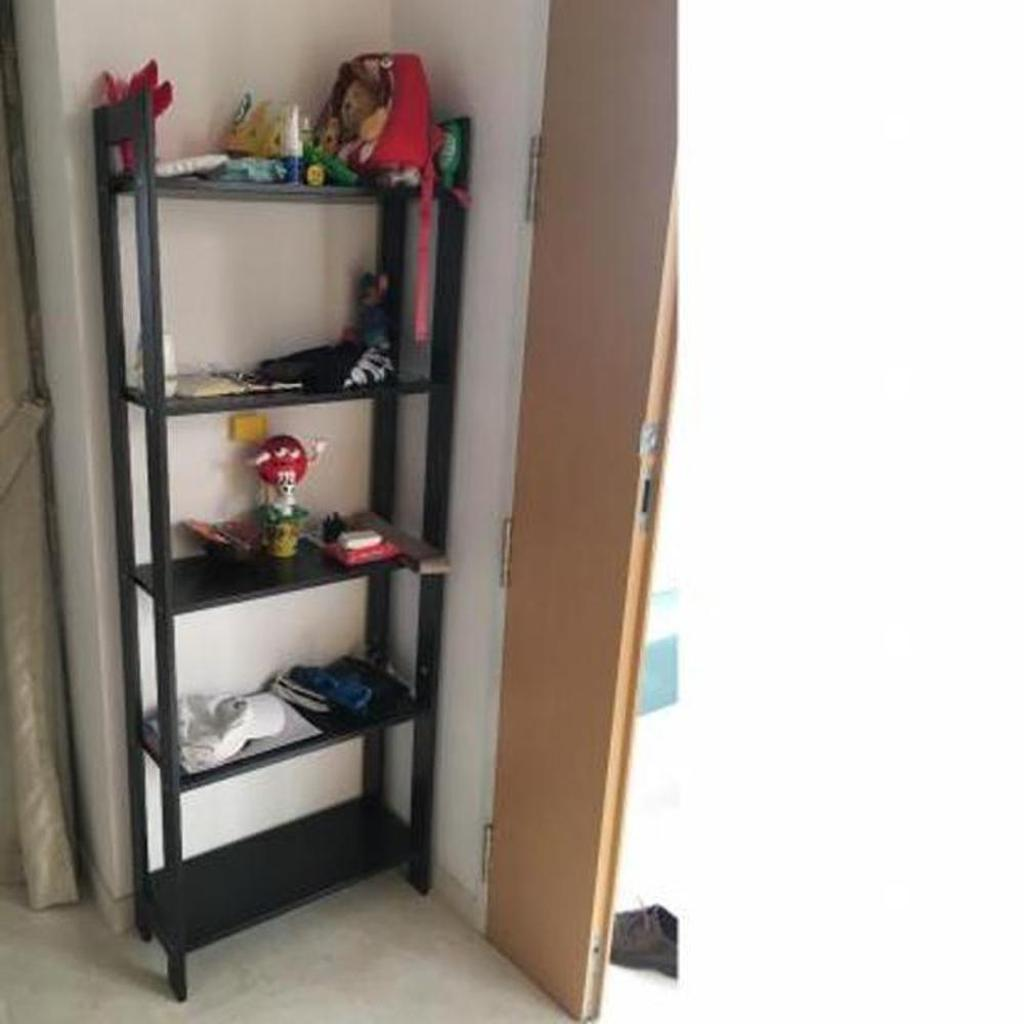lamp: (88, 84, 476, 1004)
